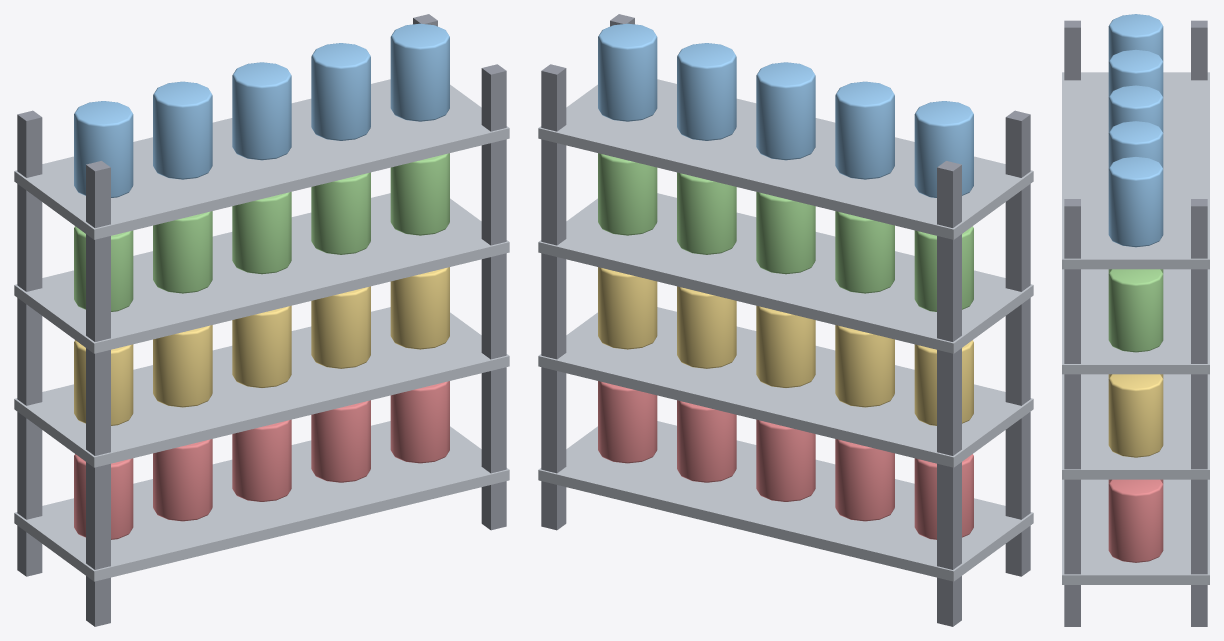
File: fx_canisters.glb
The picture shows the model from 3 angles, left to right: view 1: azimuth 30°, elevation 25°; view 2: azimuth 150°, elevation 25°; view 3: azimuth 270°, elevation 25°; orthographic projection. The views are drawn at different scales.
Parts seen in each view (by area): view 1: fx_canisters; view 2: fx_canisters; view 3: fx_canisters.
Part boxes in pixels (x1,y1,x2,y2): fx_canisters: [14, 14, 509, 626]; fx_canisters: [538, 14, 1033, 626]; fx_canisters: [1062, 14, 1209, 626].
Size of the model in its own units: 2.1 by 2.29 by 0.7.
